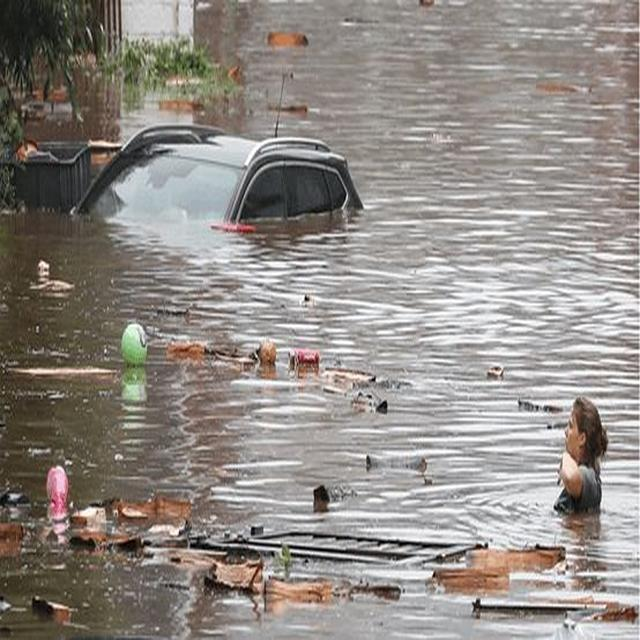Car-RiskLevel3: (62, 106, 424, 248)
Person-RiskLevel3: (538, 388, 628, 529)
